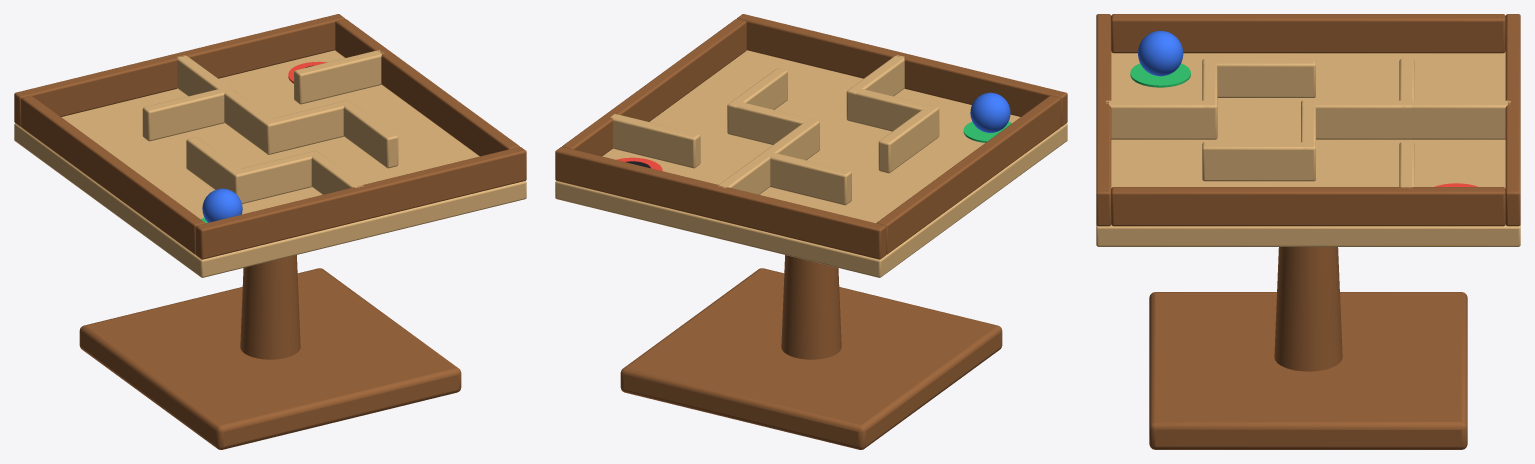
The model's file is MazeBoard.glb.
3 views of the same model, side by side, from view 1: azimuth 30°, elevation 25°; view 2: azimuth 150°, elevation 25°; view 3: azimuth 270°, elevation 25° (orthographic). The views are drawn at different scales.
Visible parts, largest first — view 1: MazeStand, MazeBoard, Wall_00, Wall_01, Wall_02, Wall_03, Wall_12, Wall_10, Wall_09, Wall_11, Wall_08, Wall_04 (+4 smaller); view 2: MazeStand, MazeBoard, Wall_01, Wall_00, Wall_02, Wall_03, Wall_12, Wall_10, Wall_04, Wall_11, Wall_09, Wall_08 (+4 smaller); view 3: MazeStand, MazeBoard, Wall_03, Wall_02, Wall_08, Wall_05, Wall_07, Wall_04, Wall_06, Wall_01, Wall_00, Marble (+4 smaller).
Part boxes in pixels (x1=…): MazeStand: x1=79, y1=255, x2=461, y2=449; MazeBoard: x1=14, y1=50, x2=526, y2=277; Wall_00: x1=195, y1=147, x2=526, y2=259; Wall_01: x1=14, y1=14, x2=344, y2=126; Wall_02: x1=21, y1=95, x2=205, y2=254; Wall_03: x1=335, y1=19, x2=519, y2=156; Wall_12: x1=294, y1=50, x2=383, y2=104; Wall_10: x1=142, y1=87, x2=233, y2=141; Wall_09: x1=231, y1=150, x2=316, y2=203; Wall_11: x1=263, y1=102, x2=349, y2=154; Wall_08: x1=340, y1=100, x2=398, y2=168; Wall_04: x1=186, y1=137, x2=245, y2=203; MazeStand: x1=620, y1=255, x2=1002, y2=449; MazeBoard: x1=555, y1=50, x2=1067, y2=277; Wall_01: x1=555, y1=147, x2=886, y2=259; Wall_00: x1=737, y1=14, x2=1067, y2=126; Wall_02: x1=876, y1=95, x2=1060, y2=254; Wall_03: x1=562, y1=19, x2=746, y2=156; Wall_12: x1=610, y1=114, x2=700, y2=168; Wall_10: x1=762, y1=151, x2=851, y2=205; Wall_04: x1=878, y1=105, x2=938, y2=173; Wall_11: x1=729, y1=100, x2=819, y2=153; Wall_09: x1=847, y1=87, x2=939, y2=140; Wall_08: x1=727, y1=68, x2=787, y2=135; MazeStand: x1=1149, y1=247, x2=1467, y2=449; MazeBoard: x1=1096, y1=51, x2=1520, y2=246; Wall_03: x1=1111, y1=187, x2=1505, y2=226; Wall_02: x1=1111, y1=14, x2=1505, y2=53; Wall_08: x1=1202, y1=142, x2=1315, y2=181; Wall_05: x1=1106, y1=100, x2=1217, y2=139; Wall_07: x1=1401, y1=100, x2=1510, y2=139; Wall_04: x1=1202, y1=59, x2=1315, y2=97; Wall_06: x1=1301, y1=100, x2=1412, y2=139; Wall_01: x1=1505, y1=14, x2=1520, y2=226; Wall_00: x1=1096, y1=14, x2=1111, y2=226; Marble: x1=1138, y1=30, x2=1183, y2=76.
Bounding box in the file's own units: 0.56 × 0.421 × 0.56.
